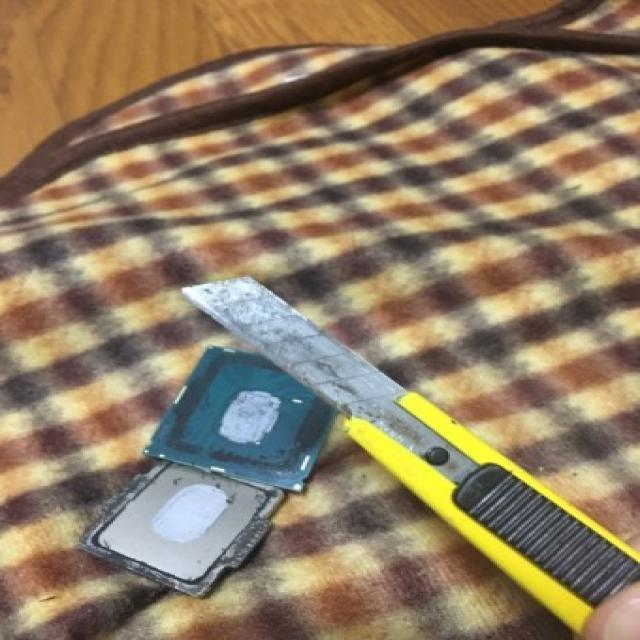cutter: (157, 260, 640, 639)
